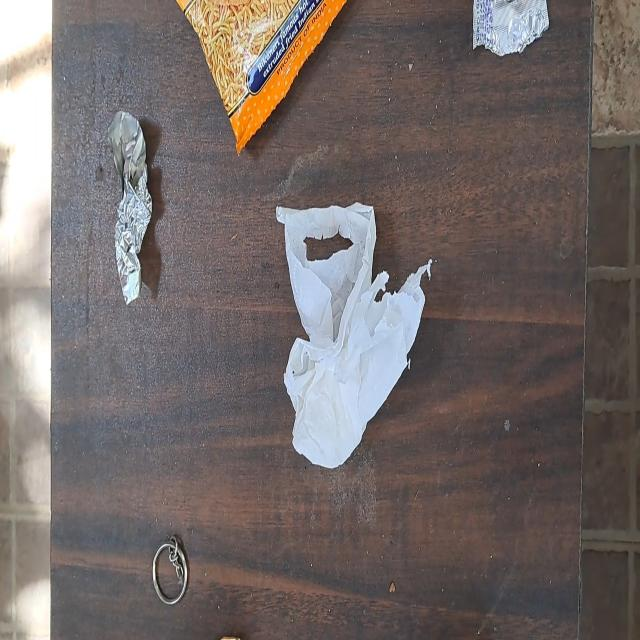Anorganik: (176, 0, 348, 154), (107, 114, 156, 305), (473, 0, 555, 56), (152, 535, 190, 606)
Organik: (278, 206, 432, 468)
